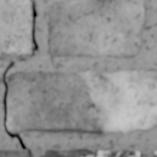brick: (8, 70, 156, 133), (48, 0, 143, 57), (0, 0, 32, 58), (45, 149, 138, 156), (0, 150, 29, 156)
crack: (0, 2, 39, 154)
